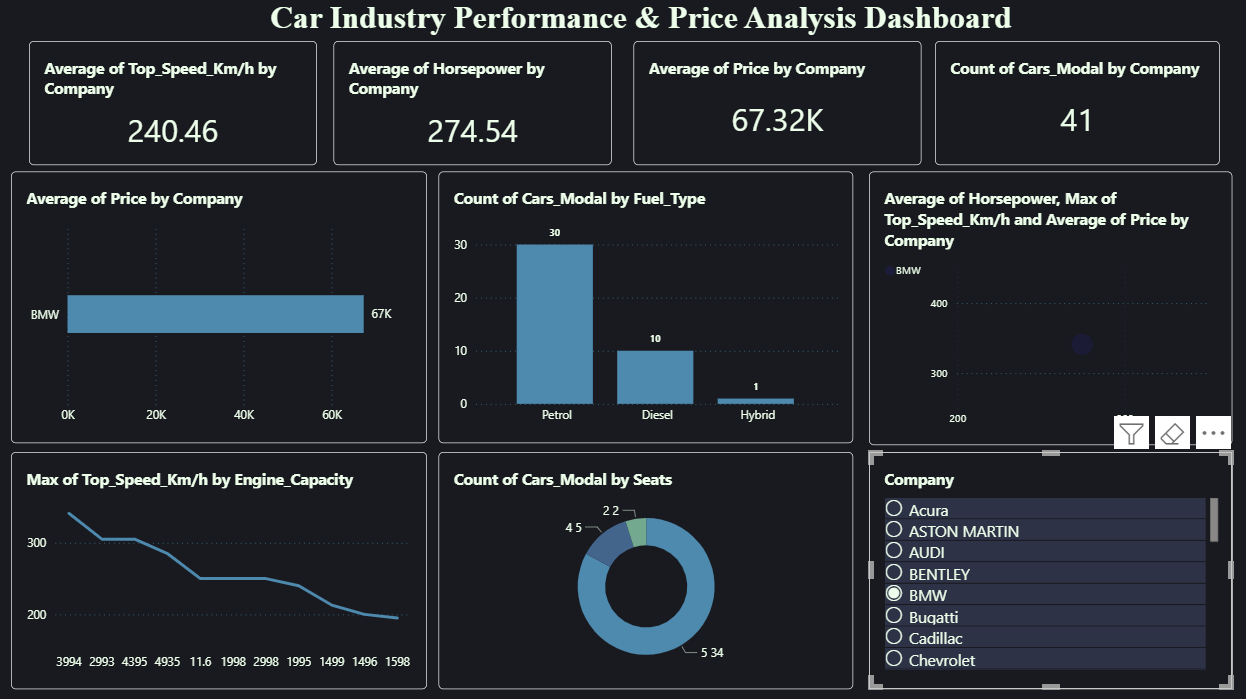

What the dashboard file says about the page in this screenshot:
{"tool":"powerbi","page":{"name":"Page 1","canvas":[1280,720],"ordinal":0},"visuals":[{"type":"textbox","box":[278.3,0,768.3,43.3],"z":0},{"type":"kpi","fields":{"Indicator":["CountNonNull(Cars Datasets 2025.Cars_Modal)"],"TrendLine":["Cars Datasets 2025.Company"]},"box":[959.7,43,292.2,127.5],"z":1000},{"type":"kpi","fields":{"Indicator":["Avg(Cars Datasets 2025.Price)"],"TrendLine":["Cars Datasets 2025.Company"]},"box":[650.3,43,295.1,127.5],"z":2000},{"type":"kpi","fields":{"Indicator":["Avg(Cars Datasets 2025.Horsepower)"],"TrendLine":["Cars Datasets 2025.Company"]},"box":[343.8,43,285,127.5],"z":3000},{"type":"kpi","fields":{"Indicator":["Avg(Cars Datasets 2025.Top_Speed_Km/h)"],"TrendLine":["Cars Datasets 2025.Company"]},"box":[30.1,43,295.1,127.5],"z":4000},{"type":"clusteredBarChart","fields":{"Category":["Cars Datasets 2025.Company"],"Y":["Avg(Cars Datasets 2025.Price)"]},"box":[11.7,176.7,426.7,278.3],"z":5000},{"type":"clusteredColumnChart","fields":{"Category":["Cars Datasets 2025.Fuel_Type"],"Y":["CountNonNull(Cars Datasets 2025.Cars_Modal)"]},"box":[450,176.7,425,278.3],"z":6000},{"type":"scatterChart","fields":{"X":["Avg(Cars Datasets 2025.Horsepower)"],"Y":["Max(Cars Datasets 2025.Top_Speed_Km/h)"],"Series":["Cars Datasets 2025.Company"],"Size":["Avg(Cars Datasets 2025.Price)"]},"box":[892.4,176.2,372.4,280.7],"z":7000},{"type":"lineChart","fields":{"Category":["Cars Datasets 2025.Engine_Capacity"],"Y":["Max(Cars Datasets 2025.Top_Speed_Km/h)"]},"box":[11.7,465,426.7,243.3],"z":8000},{"type":"donutChart","fields":{"Category":["Cars Datasets 2025.Seats"],"Y":["CountNonNull(Cars Datasets 2025.Cars_Modal)"]},"box":[450,465,425,243.3],"z":9000},{"type":"listSlicer","fields":{"Values":["Cars Datasets 2025.Company"]},"box":[891.7,465,373.3,243.3],"z":10000}]}

Visuals, with their boxes in screenshot pixels (x1, y1, x2, y2), scaled from the page's 1280x720 canvas onto the 1246x699 screenshot:
textbox: [left=271, top=0, right=1019, bottom=42]
kpi - CountNonNull(Cars Datasets 2025.Cars_Modal) x Cars Datasets 2025.Company: [left=934, top=42, right=1219, bottom=166]
kpi - Avg(Cars Datasets 2025.Price) x Cars Datasets 2025.Company: [left=633, top=42, right=920, bottom=166]
kpi - Avg(Cars Datasets 2025.Horsepower) x Cars Datasets 2025.Company: [left=335, top=42, right=612, bottom=166]
kpi - Avg(Cars Datasets 2025.Top_Speed_Km/h) x Cars Datasets 2025.Company: [left=29, top=42, right=317, bottom=166]
clusteredBarChart - Cars Datasets 2025.Company x Avg(Cars Datasets 2025.Price): [left=11, top=172, right=427, bottom=442]
clusteredColumnChart - Cars Datasets 2025.Fuel_Type x CountNonNull(Cars Datasets 2025.Cars_Modal): [left=438, top=172, right=852, bottom=442]
scatterChart - Avg(Cars Datasets 2025.Horsepower) x Max(Cars Datasets 2025.Top_Speed_Km/h): [left=869, top=171, right=1231, bottom=444]
lineChart - Cars Datasets 2025.Engine_Capacity x Max(Cars Datasets 2025.Top_Speed_Km/h): [left=11, top=451, right=427, bottom=688]
donutChart - Cars Datasets 2025.Seats x CountNonNull(Cars Datasets 2025.Cars_Modal): [left=438, top=451, right=852, bottom=688]
listSlicer - Cars Datasets 2025.Company: [left=868, top=451, right=1231, bottom=688]
